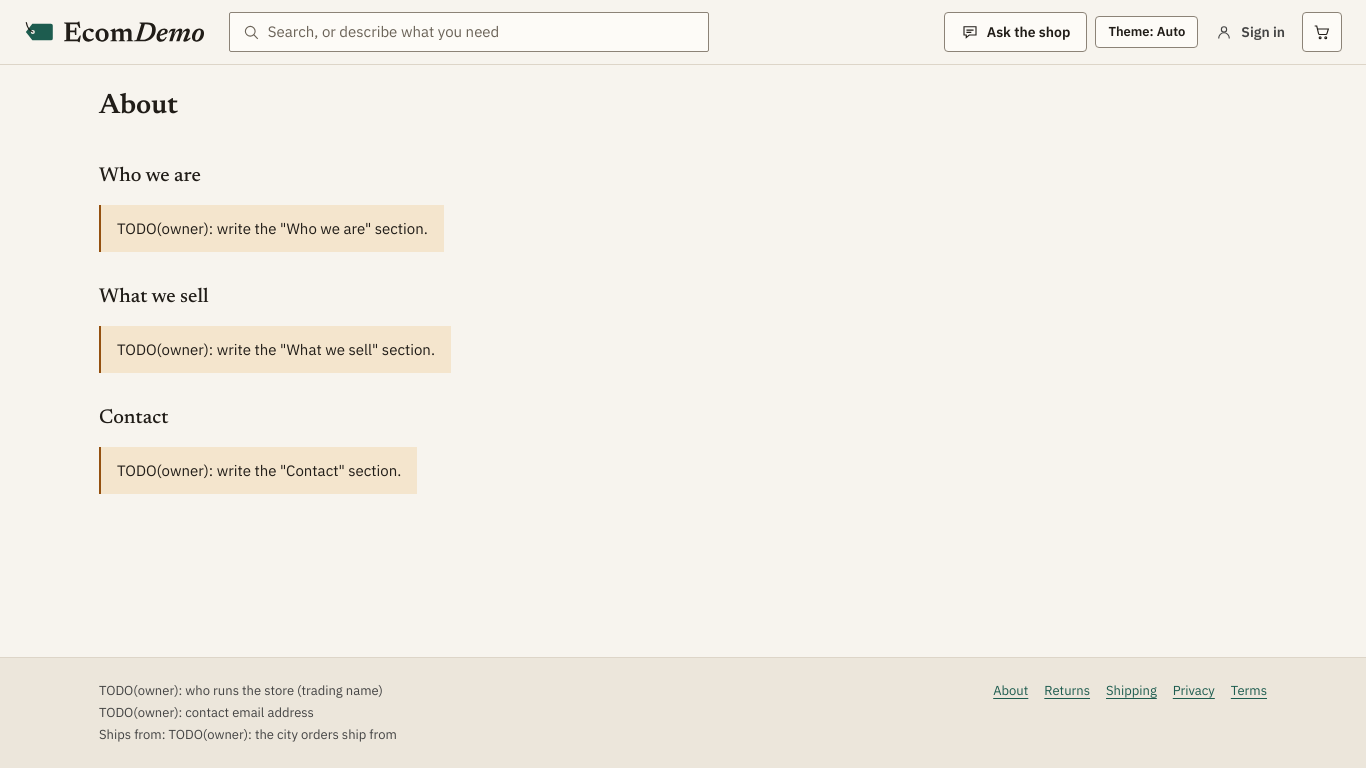
Test: the header search box › lists the suggestions in the server order, with prices, and marks the box expanded
The width and height of the screenshot is (1366, 768).
Expected: the heading "About" is shown, x1=99 y1=89 x2=178 y2=123
Type "desk" into the dropdown named "Search products" at [482, 32], box x1=268 y1=13 x2=696 y2=51
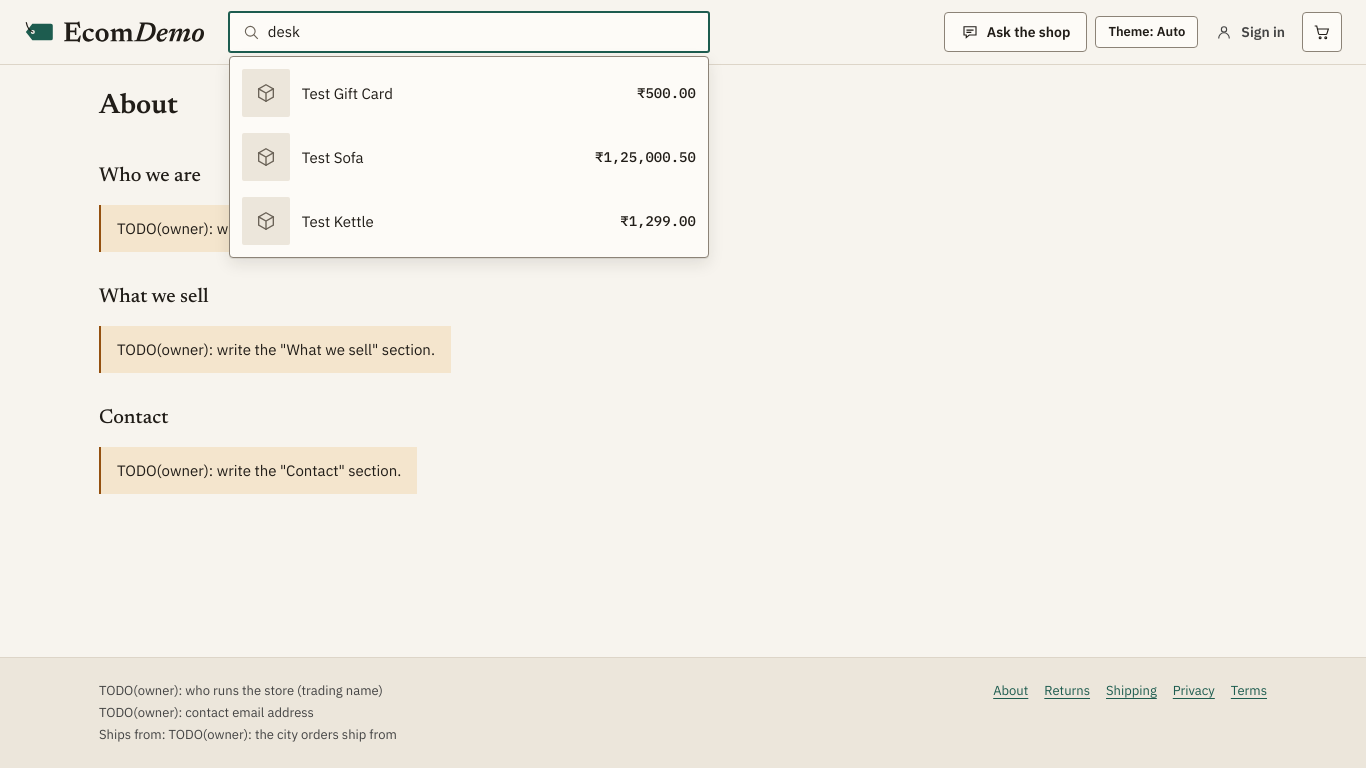
Expected: the text "₹1,25,000.50" is shown, x1=595 y1=147 x2=696 y2=167
Expected: the dropdown named "Search products" is expanded, x1=268 y1=13 x2=696 y2=51
